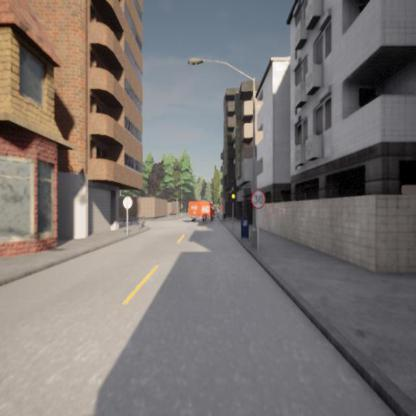traffic_light_orange: (232, 193, 235, 202)
traffic_sign_30: (251, 190, 266, 209)
vehicle: (188, 200, 213, 222)
